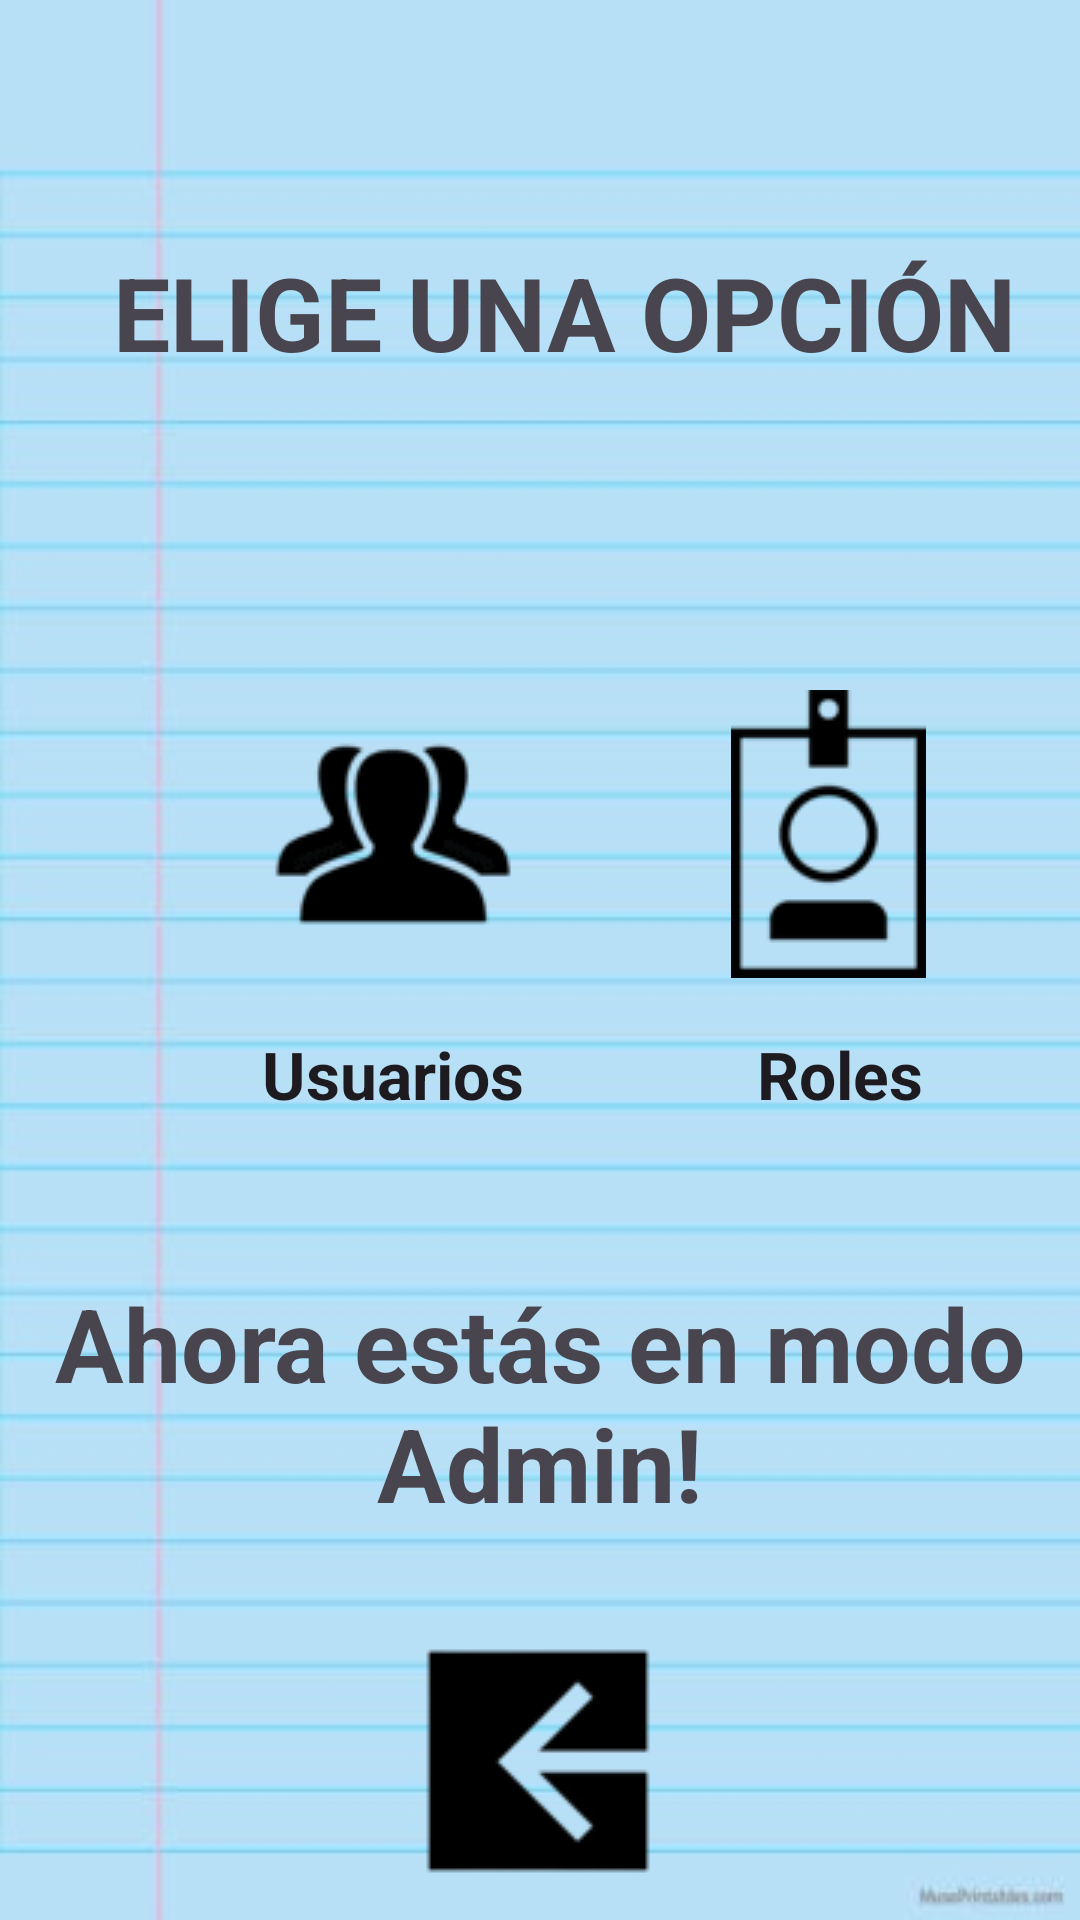

Icon bounding boxes for this 1080px×1920px phone screenshot, format {"x1": x1, "y1": y1, "x2": x2, "y2": y2}:
back: {"x1": 421, "y1": 1649, "x2": 655, "y2": 1873}
